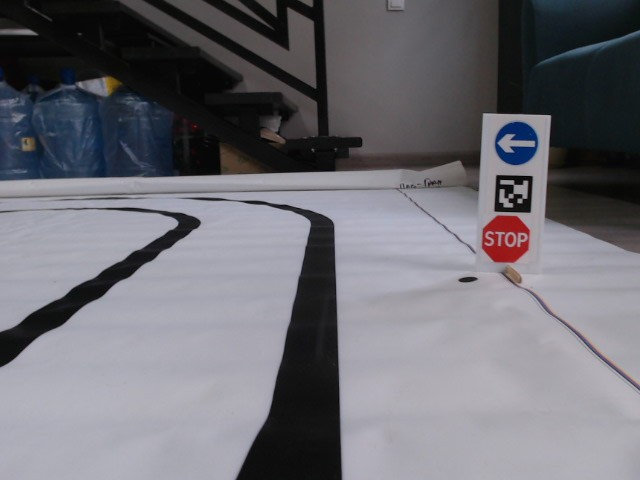Stop: (480, 214, 531, 265)
